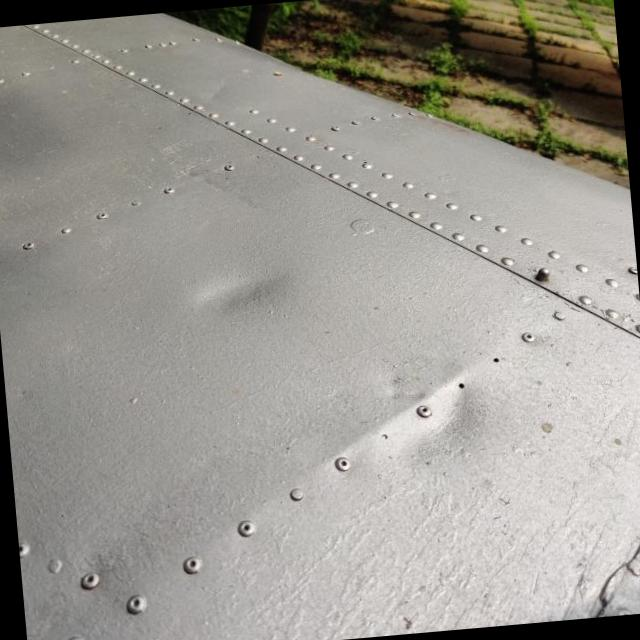Dent: (164, 199, 323, 357), (347, 357, 505, 480)
